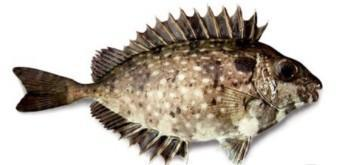fish: (13, 7, 321, 163)
